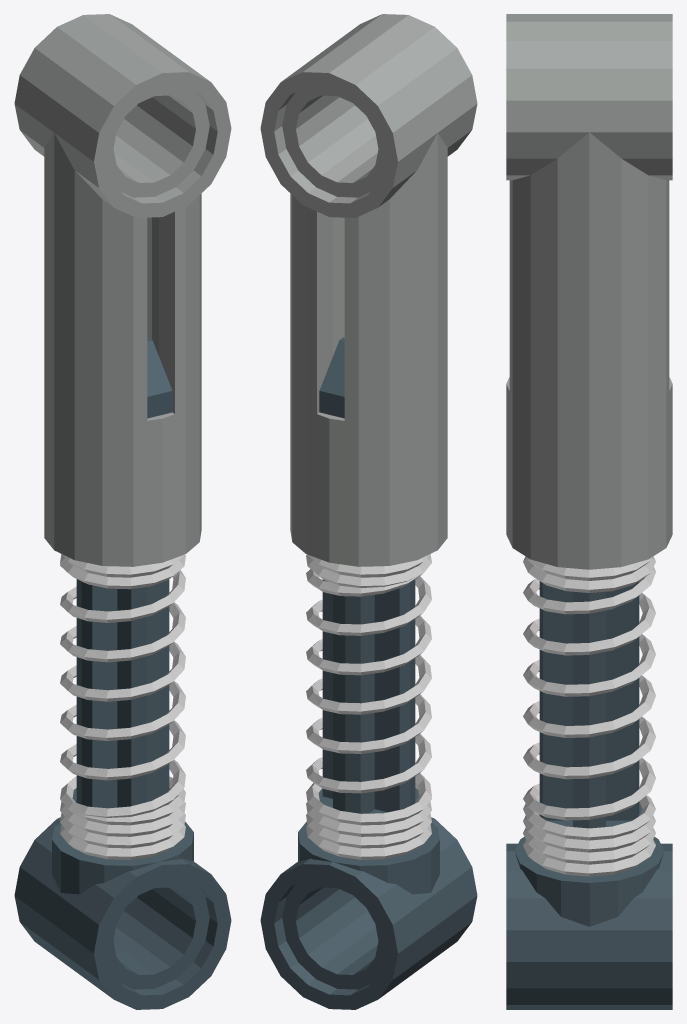
3 renders of one model, left to right at view 1: azimuth 30°, elevation 25°; view 2: azimuth 150°, elevation 25°; view 3: azimuth 270°, elevation 25°, orthographic. The views are drawn at different scales.
Visible parts, largest first — view 1: world; view 2: world; view 3: world.
Boxes of the visible parts, x1,y1,x2,y2 form: world: [14, 14, 231, 1009]; world: [260, 14, 477, 1009]; world: [506, 14, 672, 1009].
Bounding box in the file's own units: 0.008 × 0.052 × 0.008.
